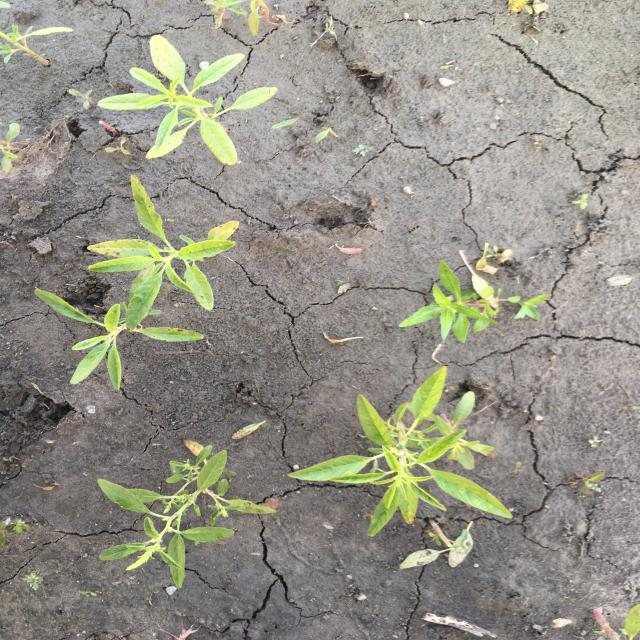Eclipta: (396, 259, 550, 345)
Waterhemp: (286, 364, 515, 540), (96, 445, 279, 590), (93, 32, 281, 168), (85, 172, 242, 334), (32, 286, 205, 392)
